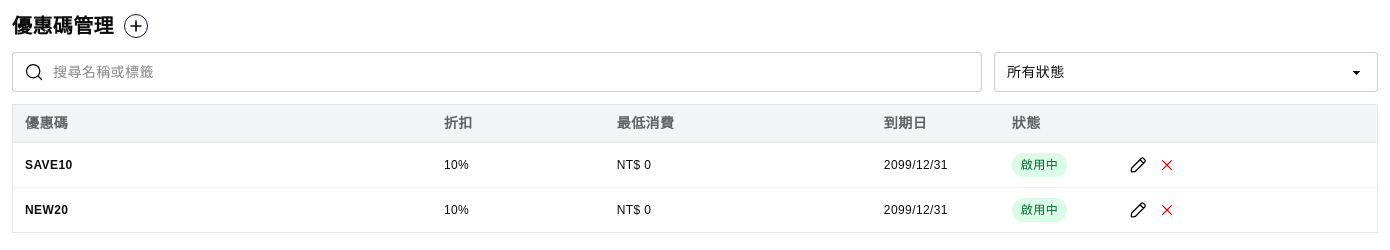
CouponManager 元件 › 依搜尋關鍵字篩選優惠碼
Expected: the text "SAVE10" is shown, [25,158,72,172]
Expected: the text "NEW20" is shown, [25,203,68,217]
Type "save" into the field with placeholder "搜尋名稱或標籤" at (497, 72), box [12,52,982,92]
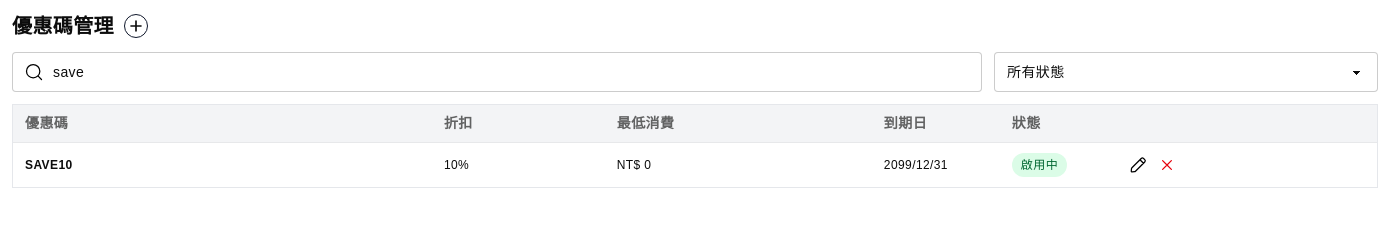
Expected: the text "SAVE10" is shown, [25,158,72,172]
Expected: the text "NEW20" is gone
